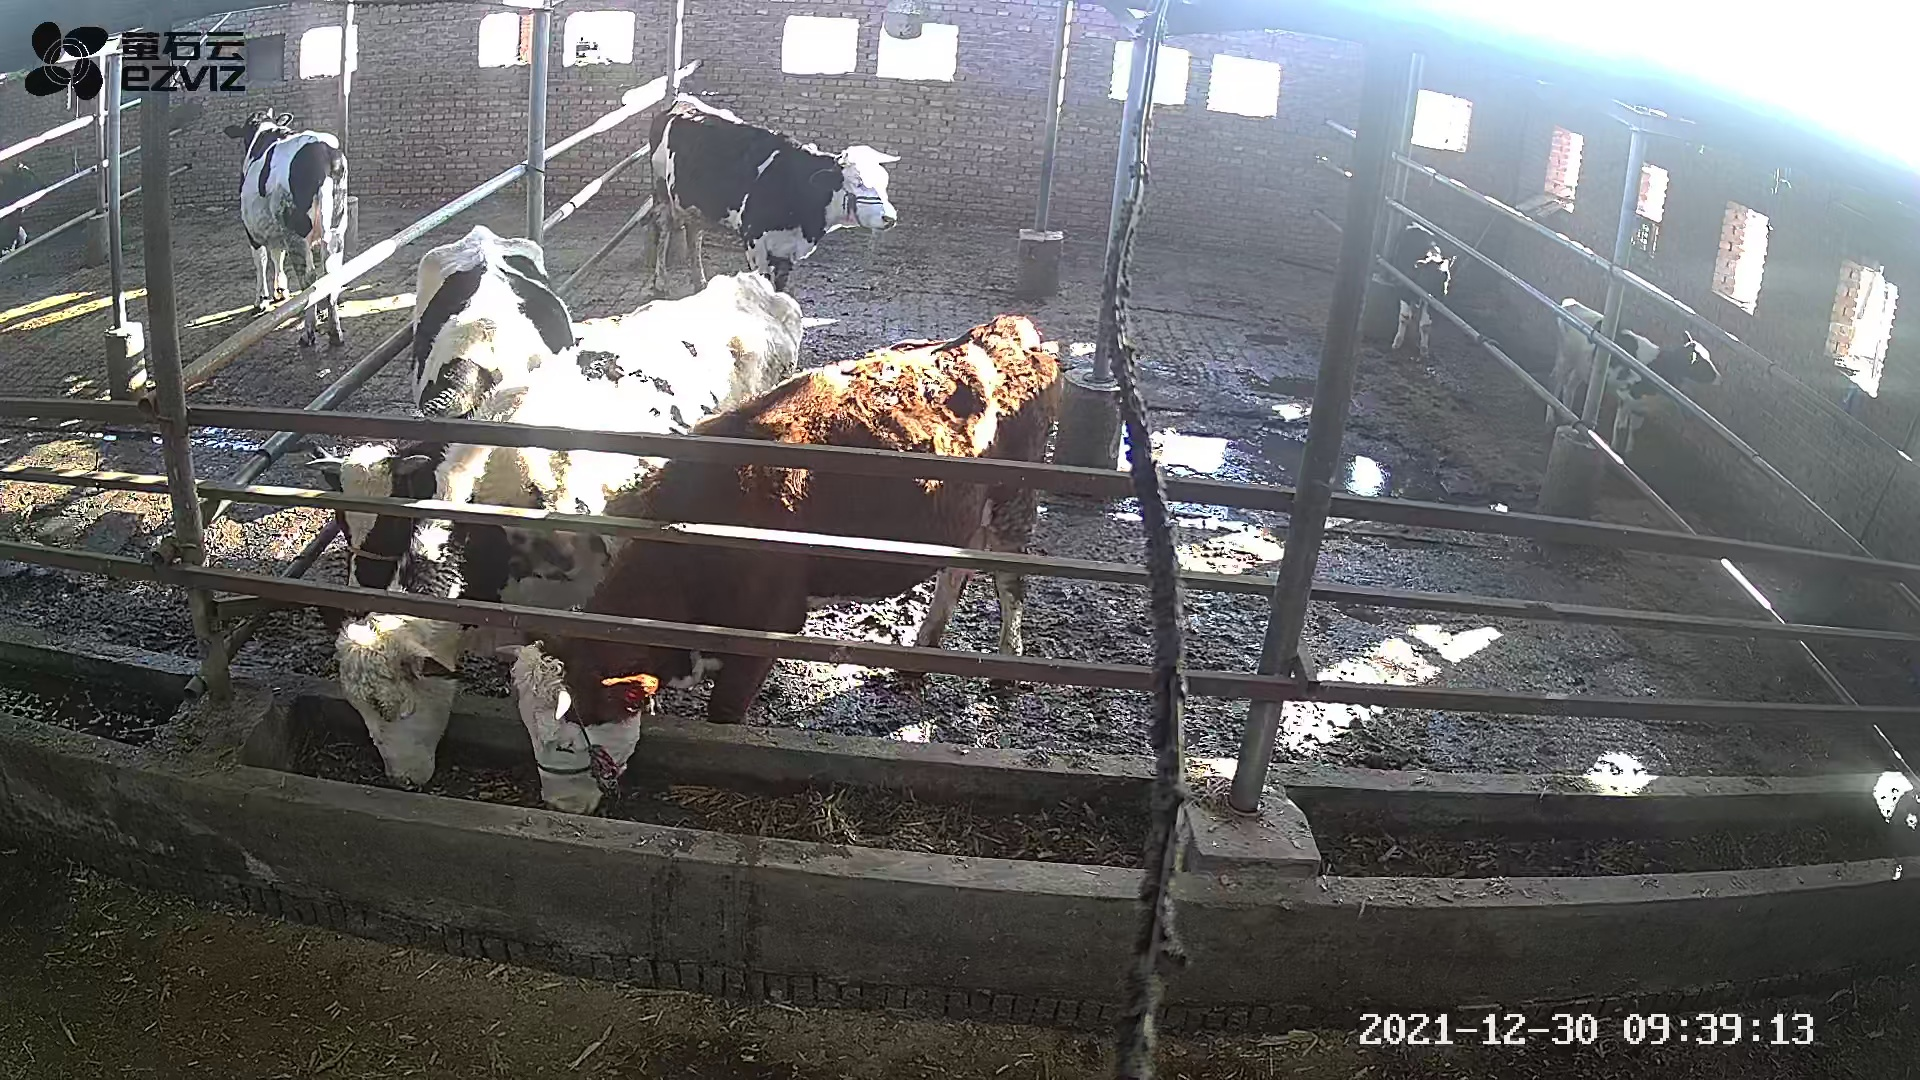cow: (493, 313, 1064, 818), (331, 266, 804, 790), (301, 223, 574, 592), (647, 91, 902, 301)
